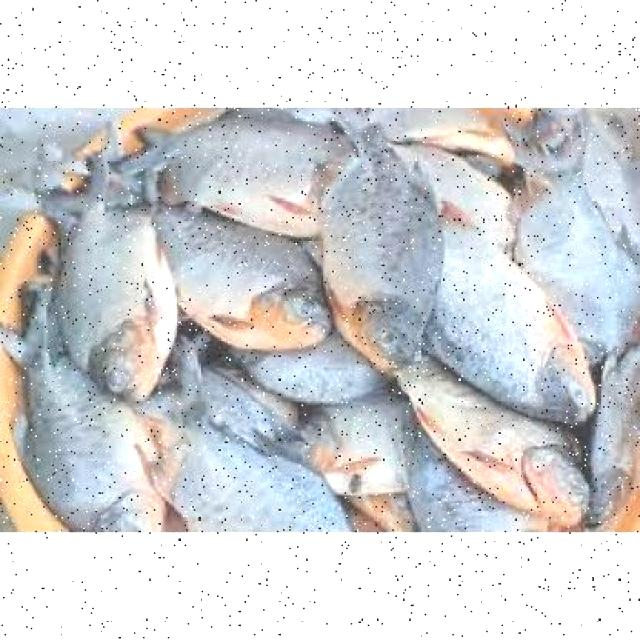ikan-pacu: (437, 213, 594, 421), (15, 332, 166, 530), (51, 172, 180, 400), (402, 370, 586, 524), (323, 133, 443, 369), (156, 201, 337, 350)
